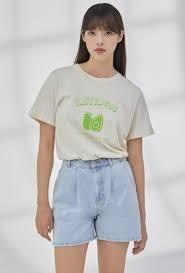Tshirt: (28, 62, 154, 162)
short: (50, 158, 144, 246)
